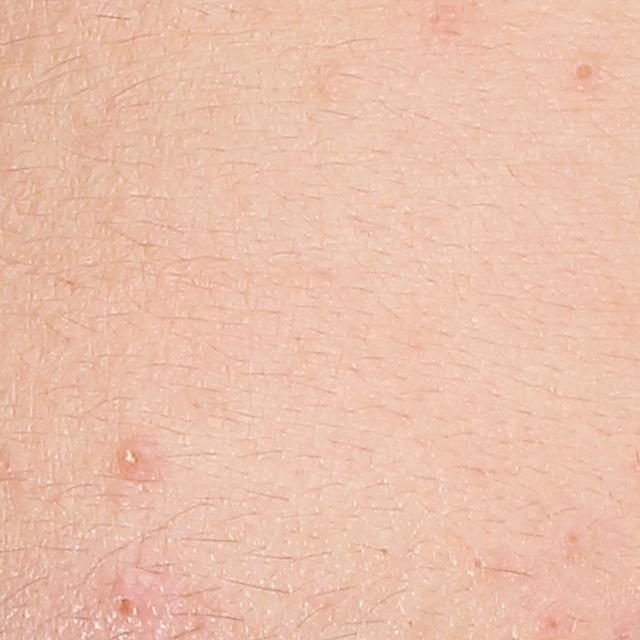comedo: (575, 60, 596, 83)
